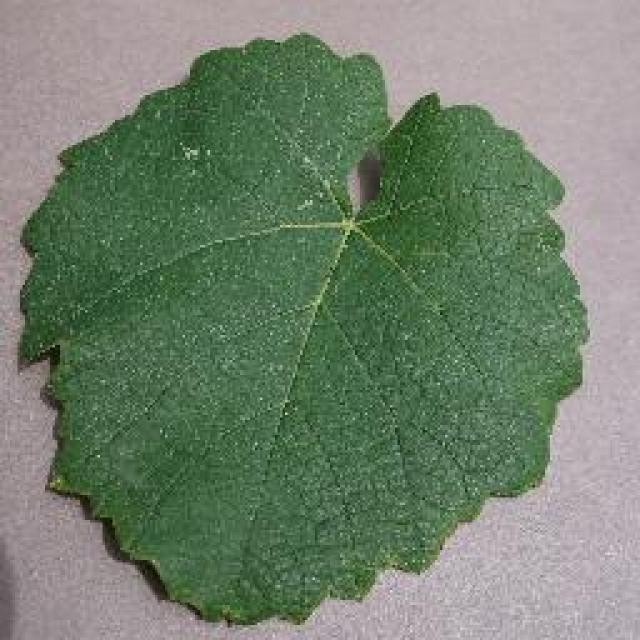Grape___healthy: (20, 35, 582, 622)
